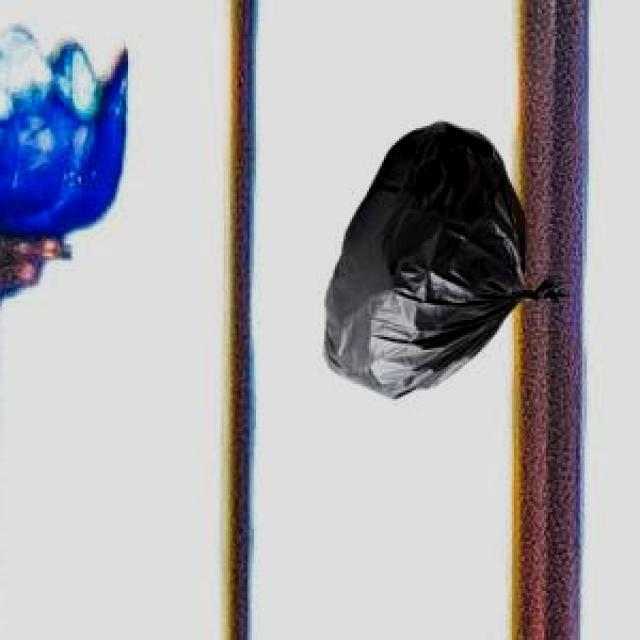Trashbag: (315, 118, 576, 404)
